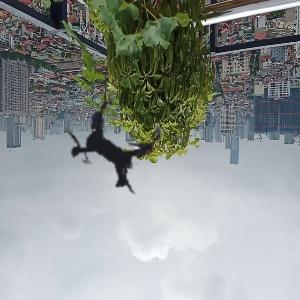drone: (23, 61, 196, 234)
